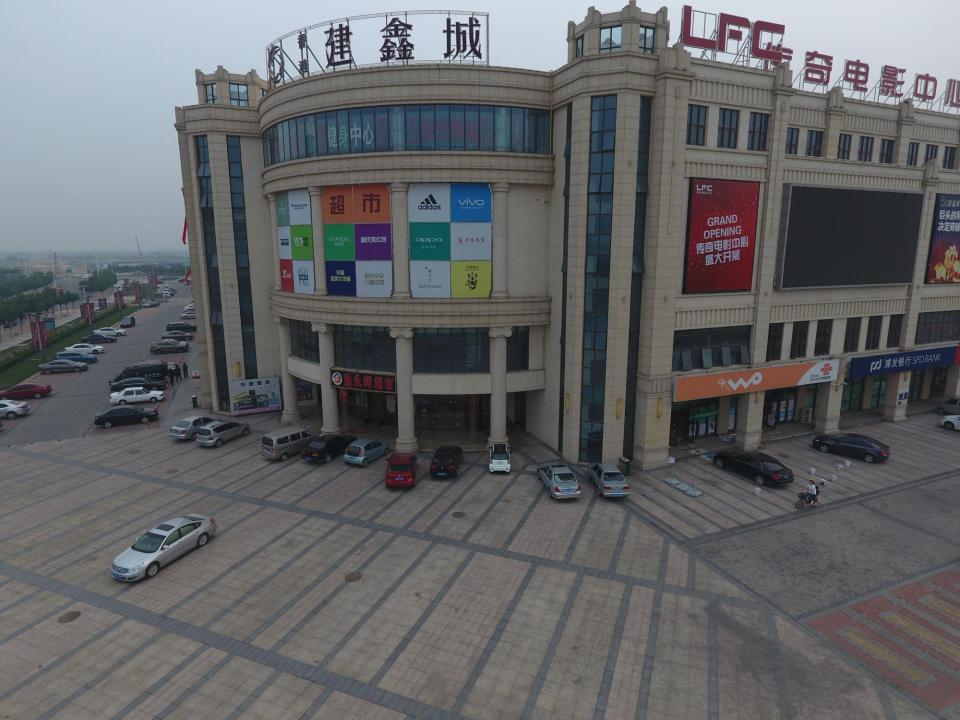car: (109, 514, 217, 581), (714, 450, 794, 487), (812, 433, 890, 463), (537, 462, 581, 499), (301, 434, 357, 463), (587, 463, 630, 499), (196, 419, 250, 447), (94, 405, 158, 428), (343, 437, 389, 466), (170, 416, 222, 441), (430, 445, 464, 478), (385, 454, 418, 488), (110, 387, 165, 405), (0, 382, 52, 400), (110, 377, 166, 392), (38, 359, 88, 374), (488, 444, 511, 474), (54, 350, 98, 364), (0, 400, 30, 419), (136, 359, 176, 373), (63, 343, 104, 355), (150, 341, 187, 354), (82, 334, 117, 344), (93, 326, 126, 336), (161, 330, 193, 340), (166, 322, 196, 331), (160, 338, 188, 346), (120, 315, 135, 328)
van: (262, 425, 319, 461), (108, 361, 168, 386)
